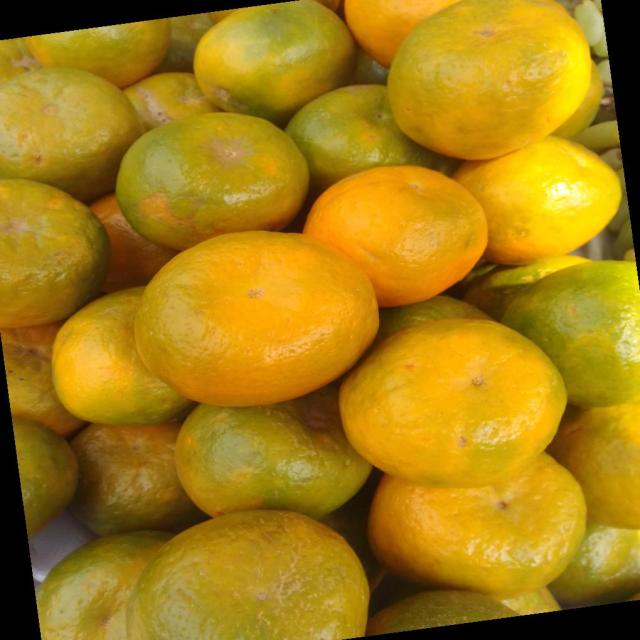fresh orange: (1, 0, 638, 638), (132, 228, 379, 406), (349, 430, 601, 594), (338, 316, 567, 487), (386, 0, 591, 160), (127, 508, 366, 636), (115, 110, 309, 250), (303, 163, 488, 307), (177, 398, 370, 518), (454, 137, 619, 264), (53, 287, 198, 428), (193, 2, 354, 126), (1, 66, 143, 201), (288, 86, 456, 194), (0, 178, 110, 328), (36, 531, 178, 640), (68, 423, 198, 536), (24, 21, 169, 88), (87, 195, 180, 294), (346, 1, 475, 67), (124, 72, 217, 134)
